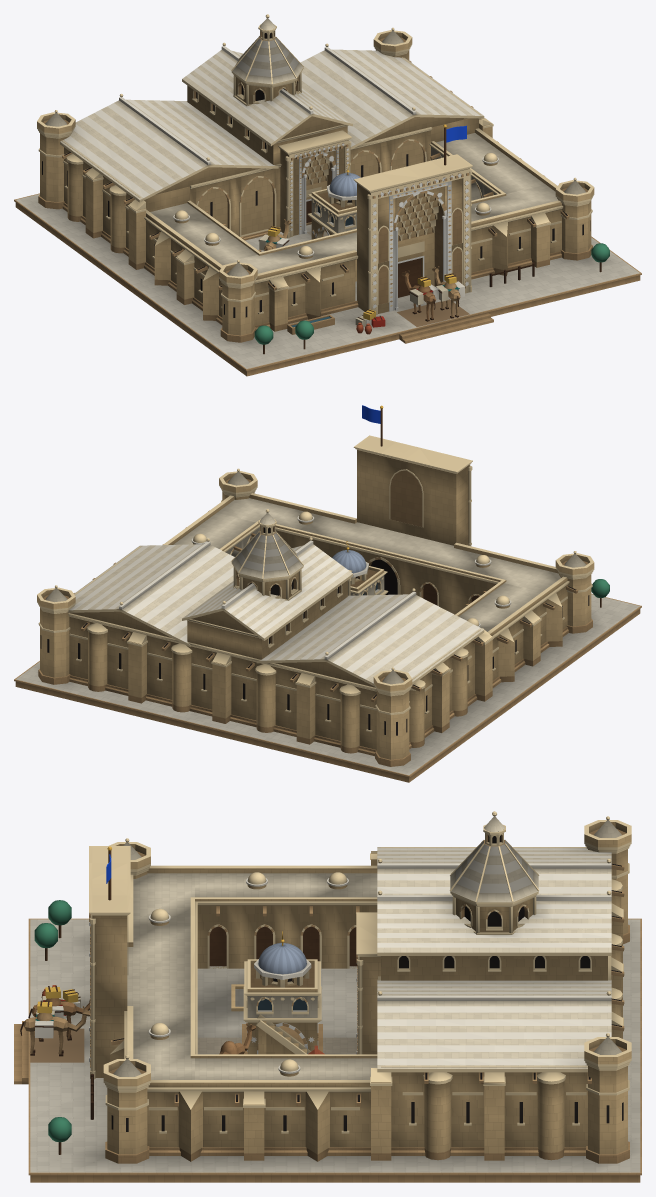
The model's file is lm_kervansaray.glb.
The picture shows the model from 3 angles, top to bottom: view 1: azimuth 30°, elevation 25°; view 2: azimuth 150°, elevation 25°; view 3: azimuth 270°, elevation 25°; orthographic projection. The views are drawn at different scales.
Parts seen in each view (by area): view 1: lm_kervansaray; view 2: lm_kervansaray; view 3: lm_kervansaray.
Part boxes in pixels (x1,y1,x2,y2): lm_kervansaray: [14, 14, 641, 376]; lm_kervansaray: [14, 405, 641, 782]; lm_kervansaray: [14, 811, 641, 1182].
Bounding box in the file's own units: 2.23 × 0.999 × 2.33.
1 material, 1 textured.
